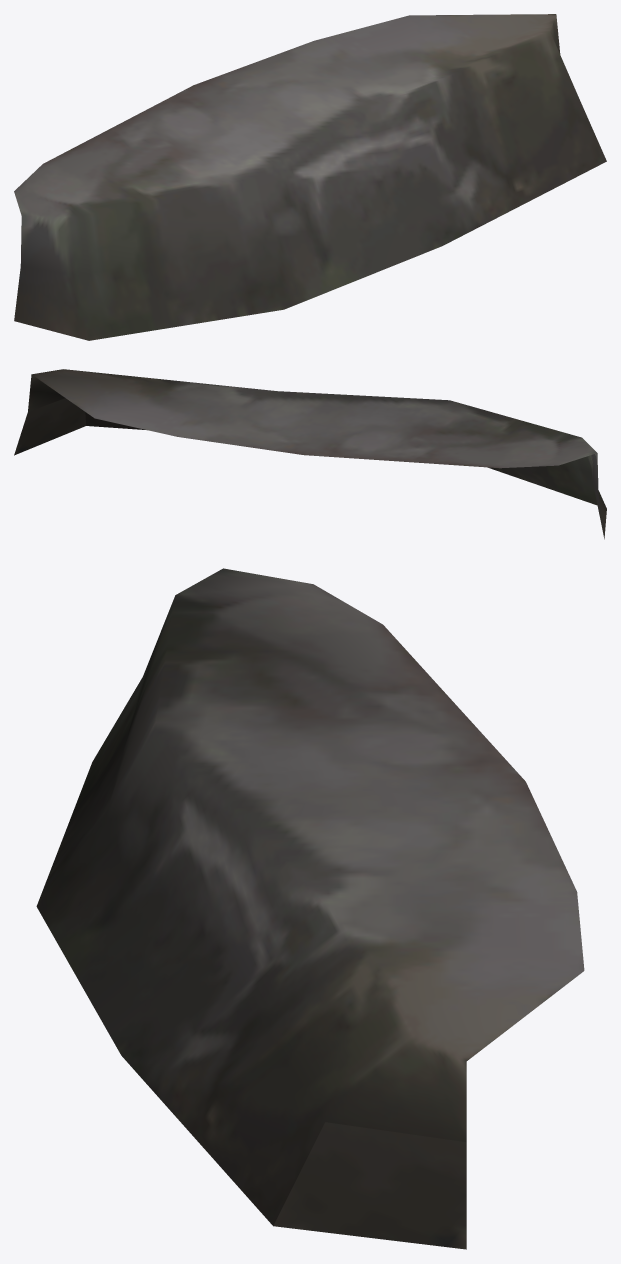
The model's file is yw_shanlin_stones_002.FBX.
3 renders of one model, top to bottom at view 1: azimuth 30°, elevation 25°; view 2: azimuth 150°, elevation 25°; view 3: azimuth 270°, elevation 25°, orthographic. The views are drawn at different scales.
Visible parts, largest first — view 1: yw_shanlin_stones_002; view 2: yw_shanlin_stones_002; view 3: yw_shanlin_stones_002.
Boxes of the visible parts, x1,y1,x2,y2 form: yw_shanlin_stones_002: (14, 14, 606, 340); yw_shanlin_stones_002: (14, 369, 606, 539); yw_shanlin_stones_002: (36, 568, 584, 1249).
Bounding box in the file's own units: 86.54 × 38.79 × 13.36.
